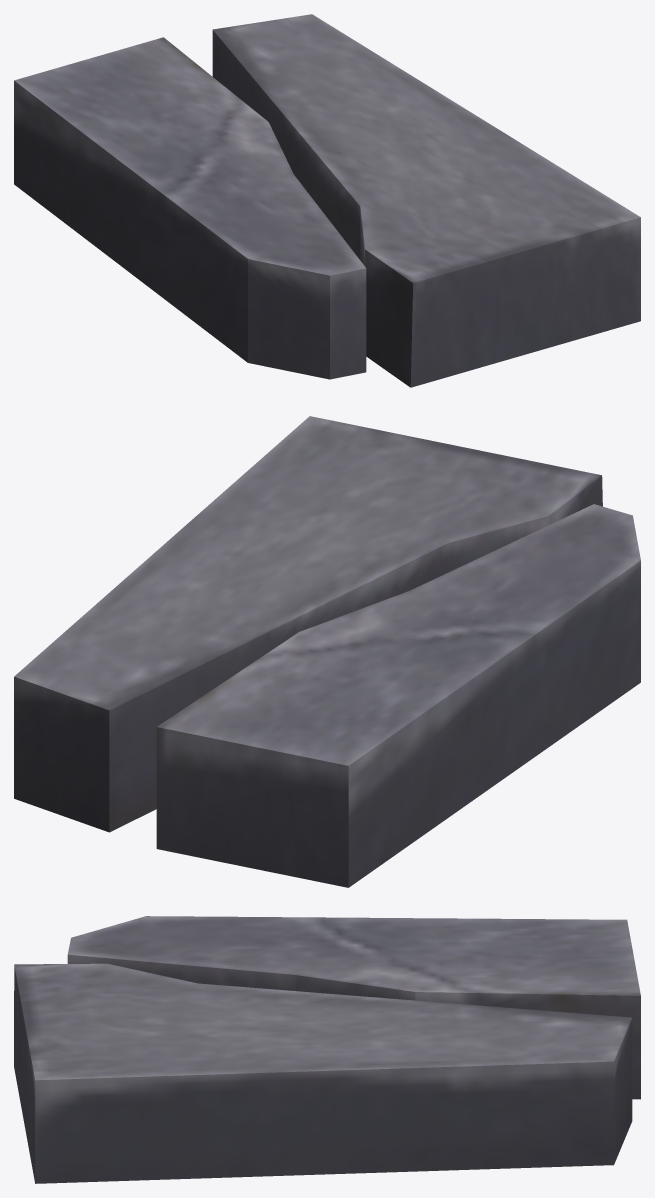
File: forget_level02_02_01.FBX
The picture shows the model from 3 angles, top to bottom: view 1: azimuth 30°, elevation 25°; view 2: azimuth 150°, elevation 25°; view 3: azimuth 270°, elevation 25°; orthographic projection. The views are drawn at different scales.
Parts seen in each view (by area): view 1: forget_level02_02_01; view 2: forget_level02_02_01; view 3: forget_level02_02_01.
Boxes of the visible parts, x1,y1,x2,y2 form: forget_level02_02_01: (14, 14, 640, 387); forget_level02_02_01: (14, 416, 640, 887); forget_level02_02_01: (14, 916, 640, 1183).
Bounding box in the file's own units: 52.02 × 15.3 × 83.96.
